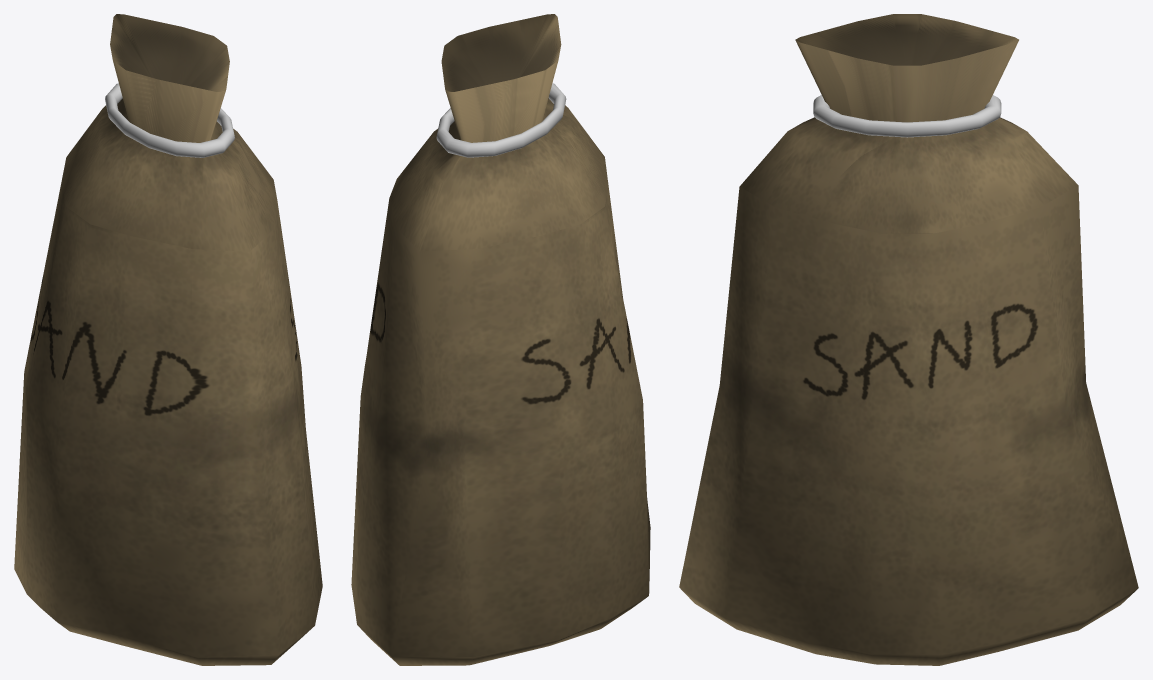
The model's file is sandsack.fbx.
The picture shows the model from 3 angles, left to right: view 1: azimuth 30°, elevation 25°; view 2: azimuth 150°, elevation 25°; view 3: azimuth 270°, elevation 25°; orthographic projection. The views are drawn at different scales.
Parts seen in each view (by area): view 1: Cylinder, Torus; view 2: Cylinder, Torus; view 3: Cylinder, Torus.
Part boxes in pixels (left/top/right/bottom): Cylinder: left=14, top=14, right=322, bottom=665; Torus: left=105, top=83, right=234, bottom=157; Cylinder: left=351, top=14, right=650, bottom=665; Torus: left=436, top=83, right=566, bottom=157; Cylinder: left=679, top=14, right=1138, bottom=665; Torus: left=813, top=95, right=1001, bottom=137.
Size of the model in its own units: 275 by 550 by 404.
